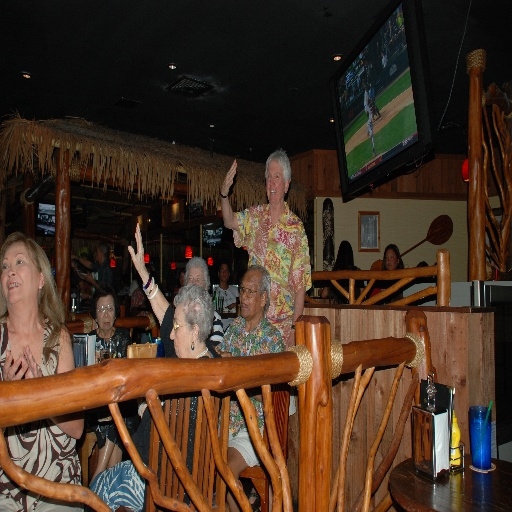hand: (126, 220, 146, 276), (1, 345, 26, 383), (21, 342, 43, 379), (218, 157, 237, 192), (285, 332, 296, 352), (80, 271, 95, 283), (70, 252, 76, 260)
